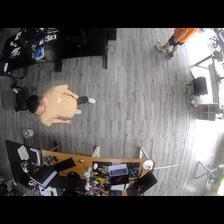normal: (28, 84, 96, 126), (155, 27, 197, 59)
